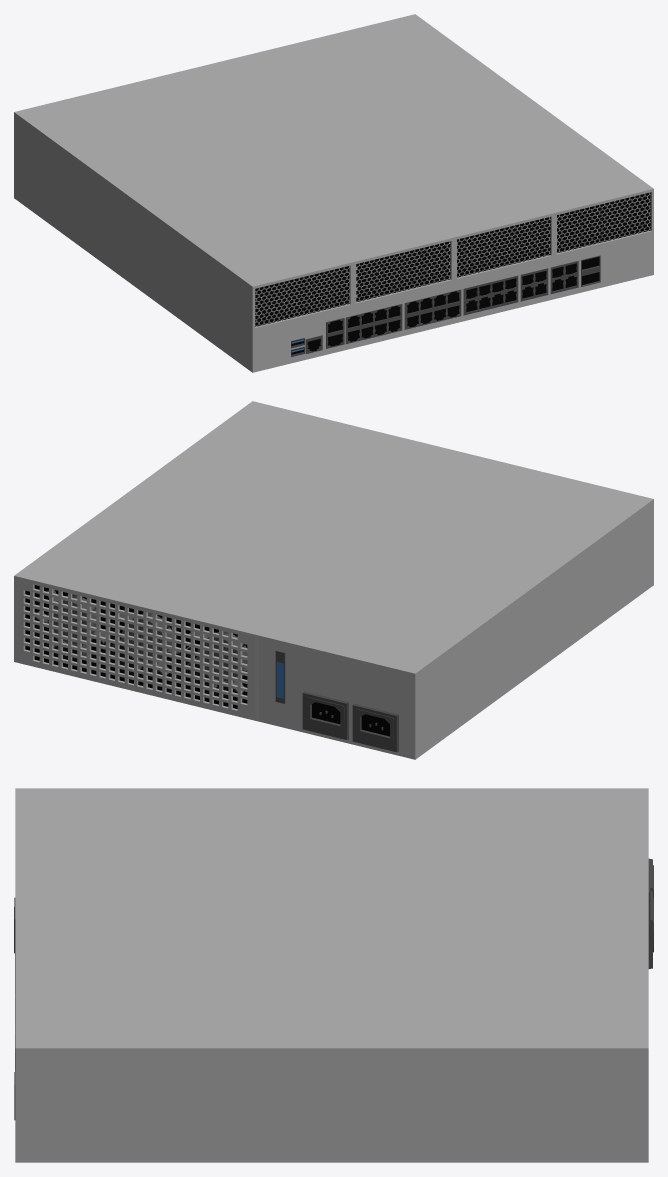
The model's file is Fortigate_FG1100E.fbx.
3 views of the same model, one above another, from view 1: azimuth 30°, elevation 25°; view 2: azimuth 150°, elevation 25°; view 3: azimuth 270°, elevation 25° (orthographic). The views are drawn at different scales.
Parts seen in each view (by area): view 1: FortiGate_FG-1100E; view 2: FortiGate_FG-1100E; view 3: FortiGate_FG-1100E.
Part boxes in pixels (bbox=[...]): FortiGate_FG-1100E: bbox=[14, 14, 653, 372]; FortiGate_FG-1100E: bbox=[14, 401, 653, 759]; FortiGate_FG-1100E: bbox=[14, 788, 653, 1162].
Bounding box in the file's own units: 434 × 452 × 89.
5 materials, 1 textured.
